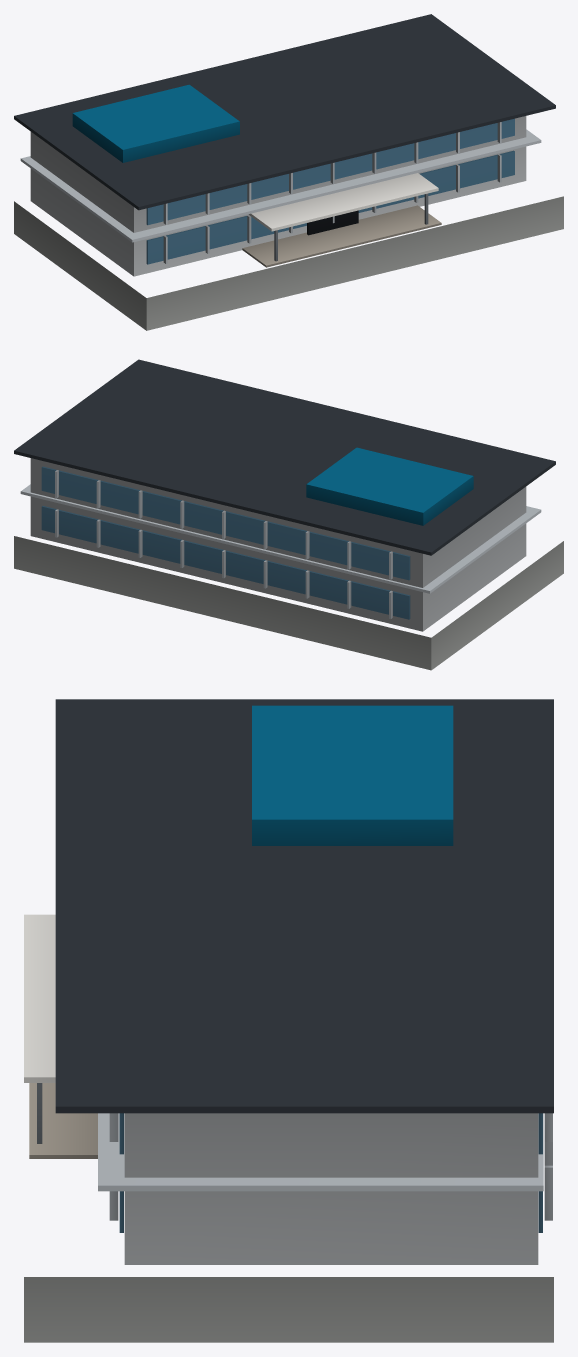
The model's file is driving-academy.glb.
3 views of the same model, one above another, from view 1: azimuth 30°, elevation 25°; view 2: azimuth 150°, elevation 25°; view 3: azimuth 270°, elevation 25° (orthographic). The views are drawn at different scales.
Visible parts, largest first — view 1: driving-academy; view 2: driving-academy; view 3: driving-academy.
Part boxes in pixels (x1,y1,x2,y2): driving-academy: (14,14,563,330); driving-academy: (14,359,563,670); driving-academy: (24,699,553,1342).
Size of the model in its own units: 40 by 12 by 22.
